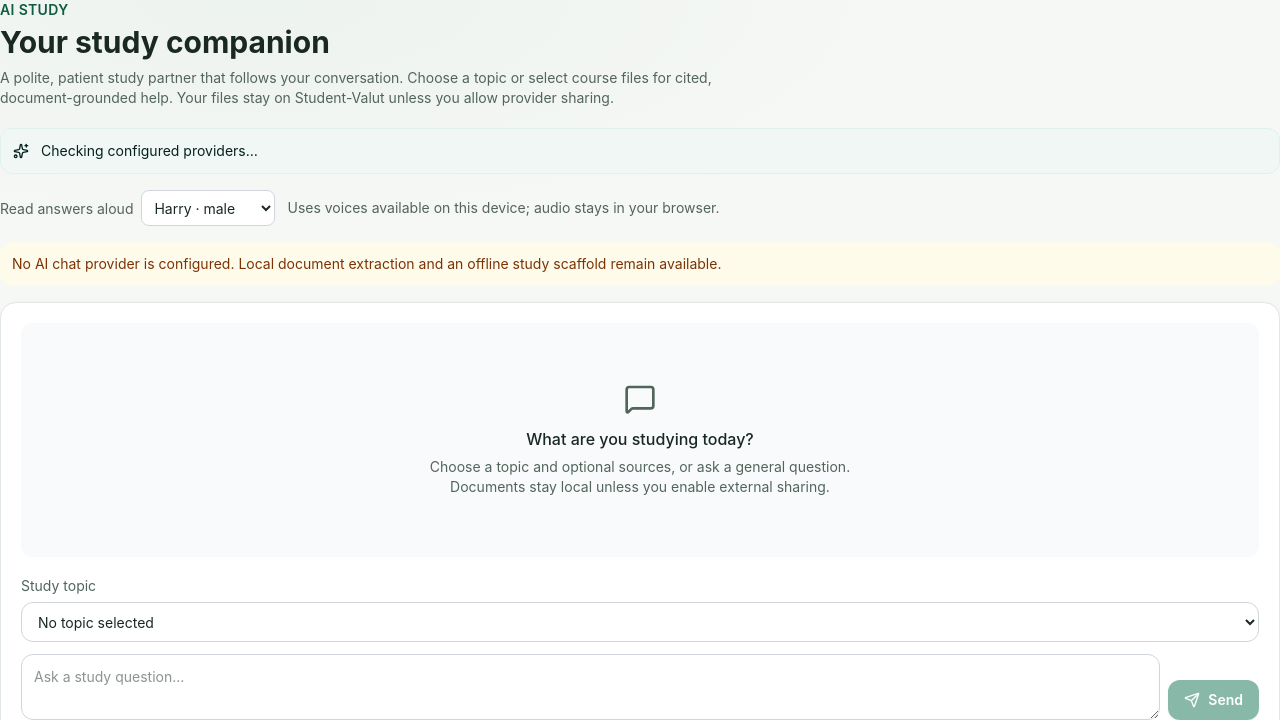
Scenario: AIPage › explains the unconfigured-provider state
Expected: the message shows "No AI chat provider is configured", [12,255,721,272]
Expected: the button with aria-label "Send question" is disabled, [1168,680,1259,719]
Type "Help me make a revision plan" into the text box named "Your study question" at (591, 687), box [21,654,1160,719]
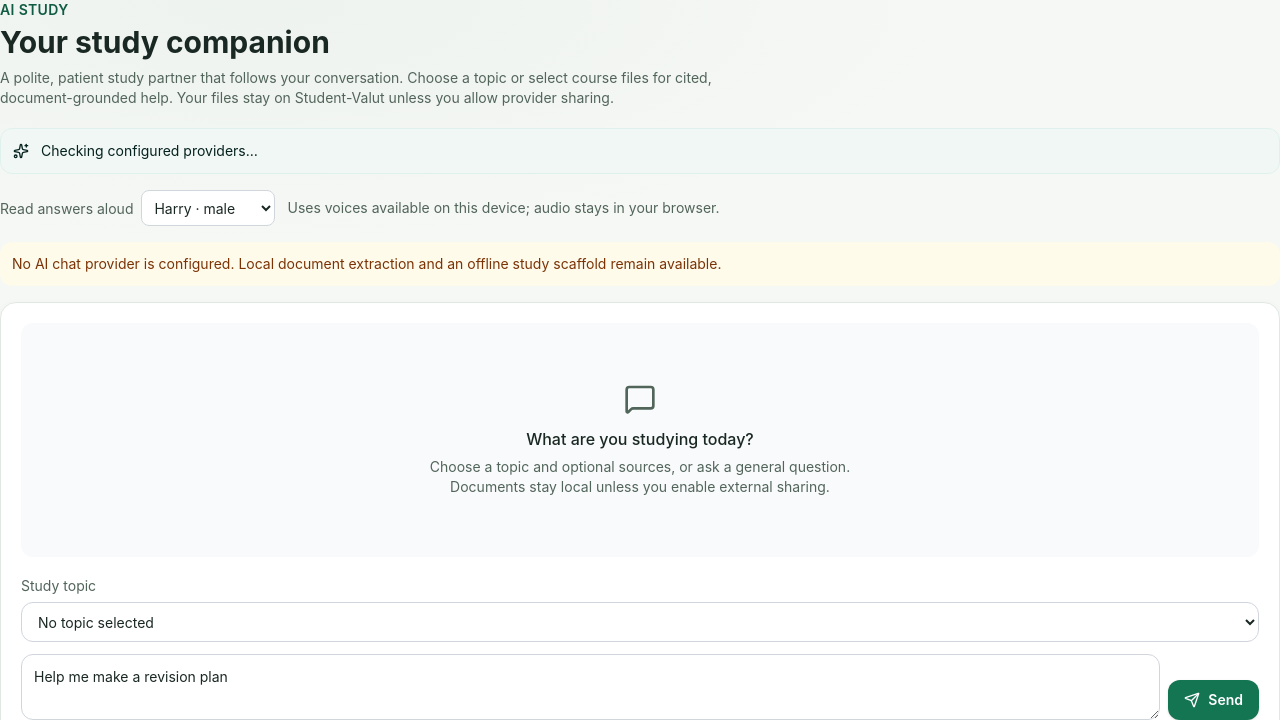
Expected: the button with aria-label "Send question" is enabled
Click the button with aria-label "Send question" at (1214, 700), box [1168,680,1259,719]
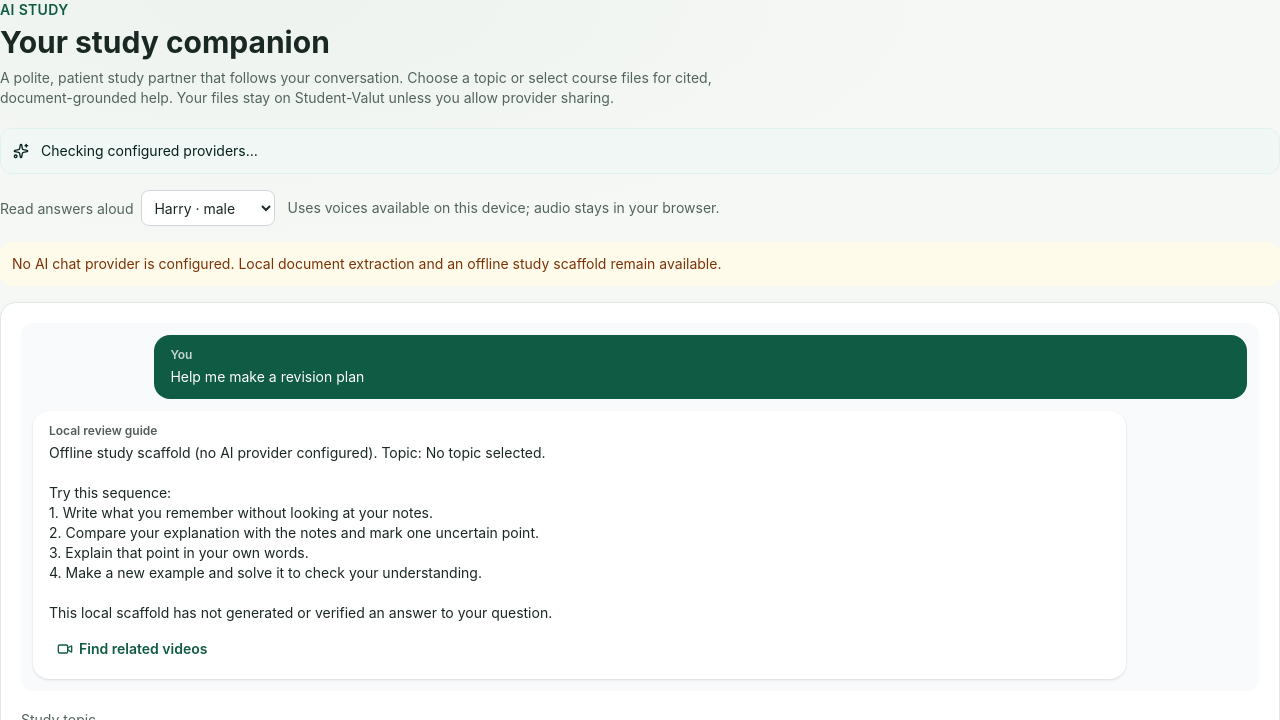
Expected: the text "Offline study scaffold" is shown, [49,444,552,621]
